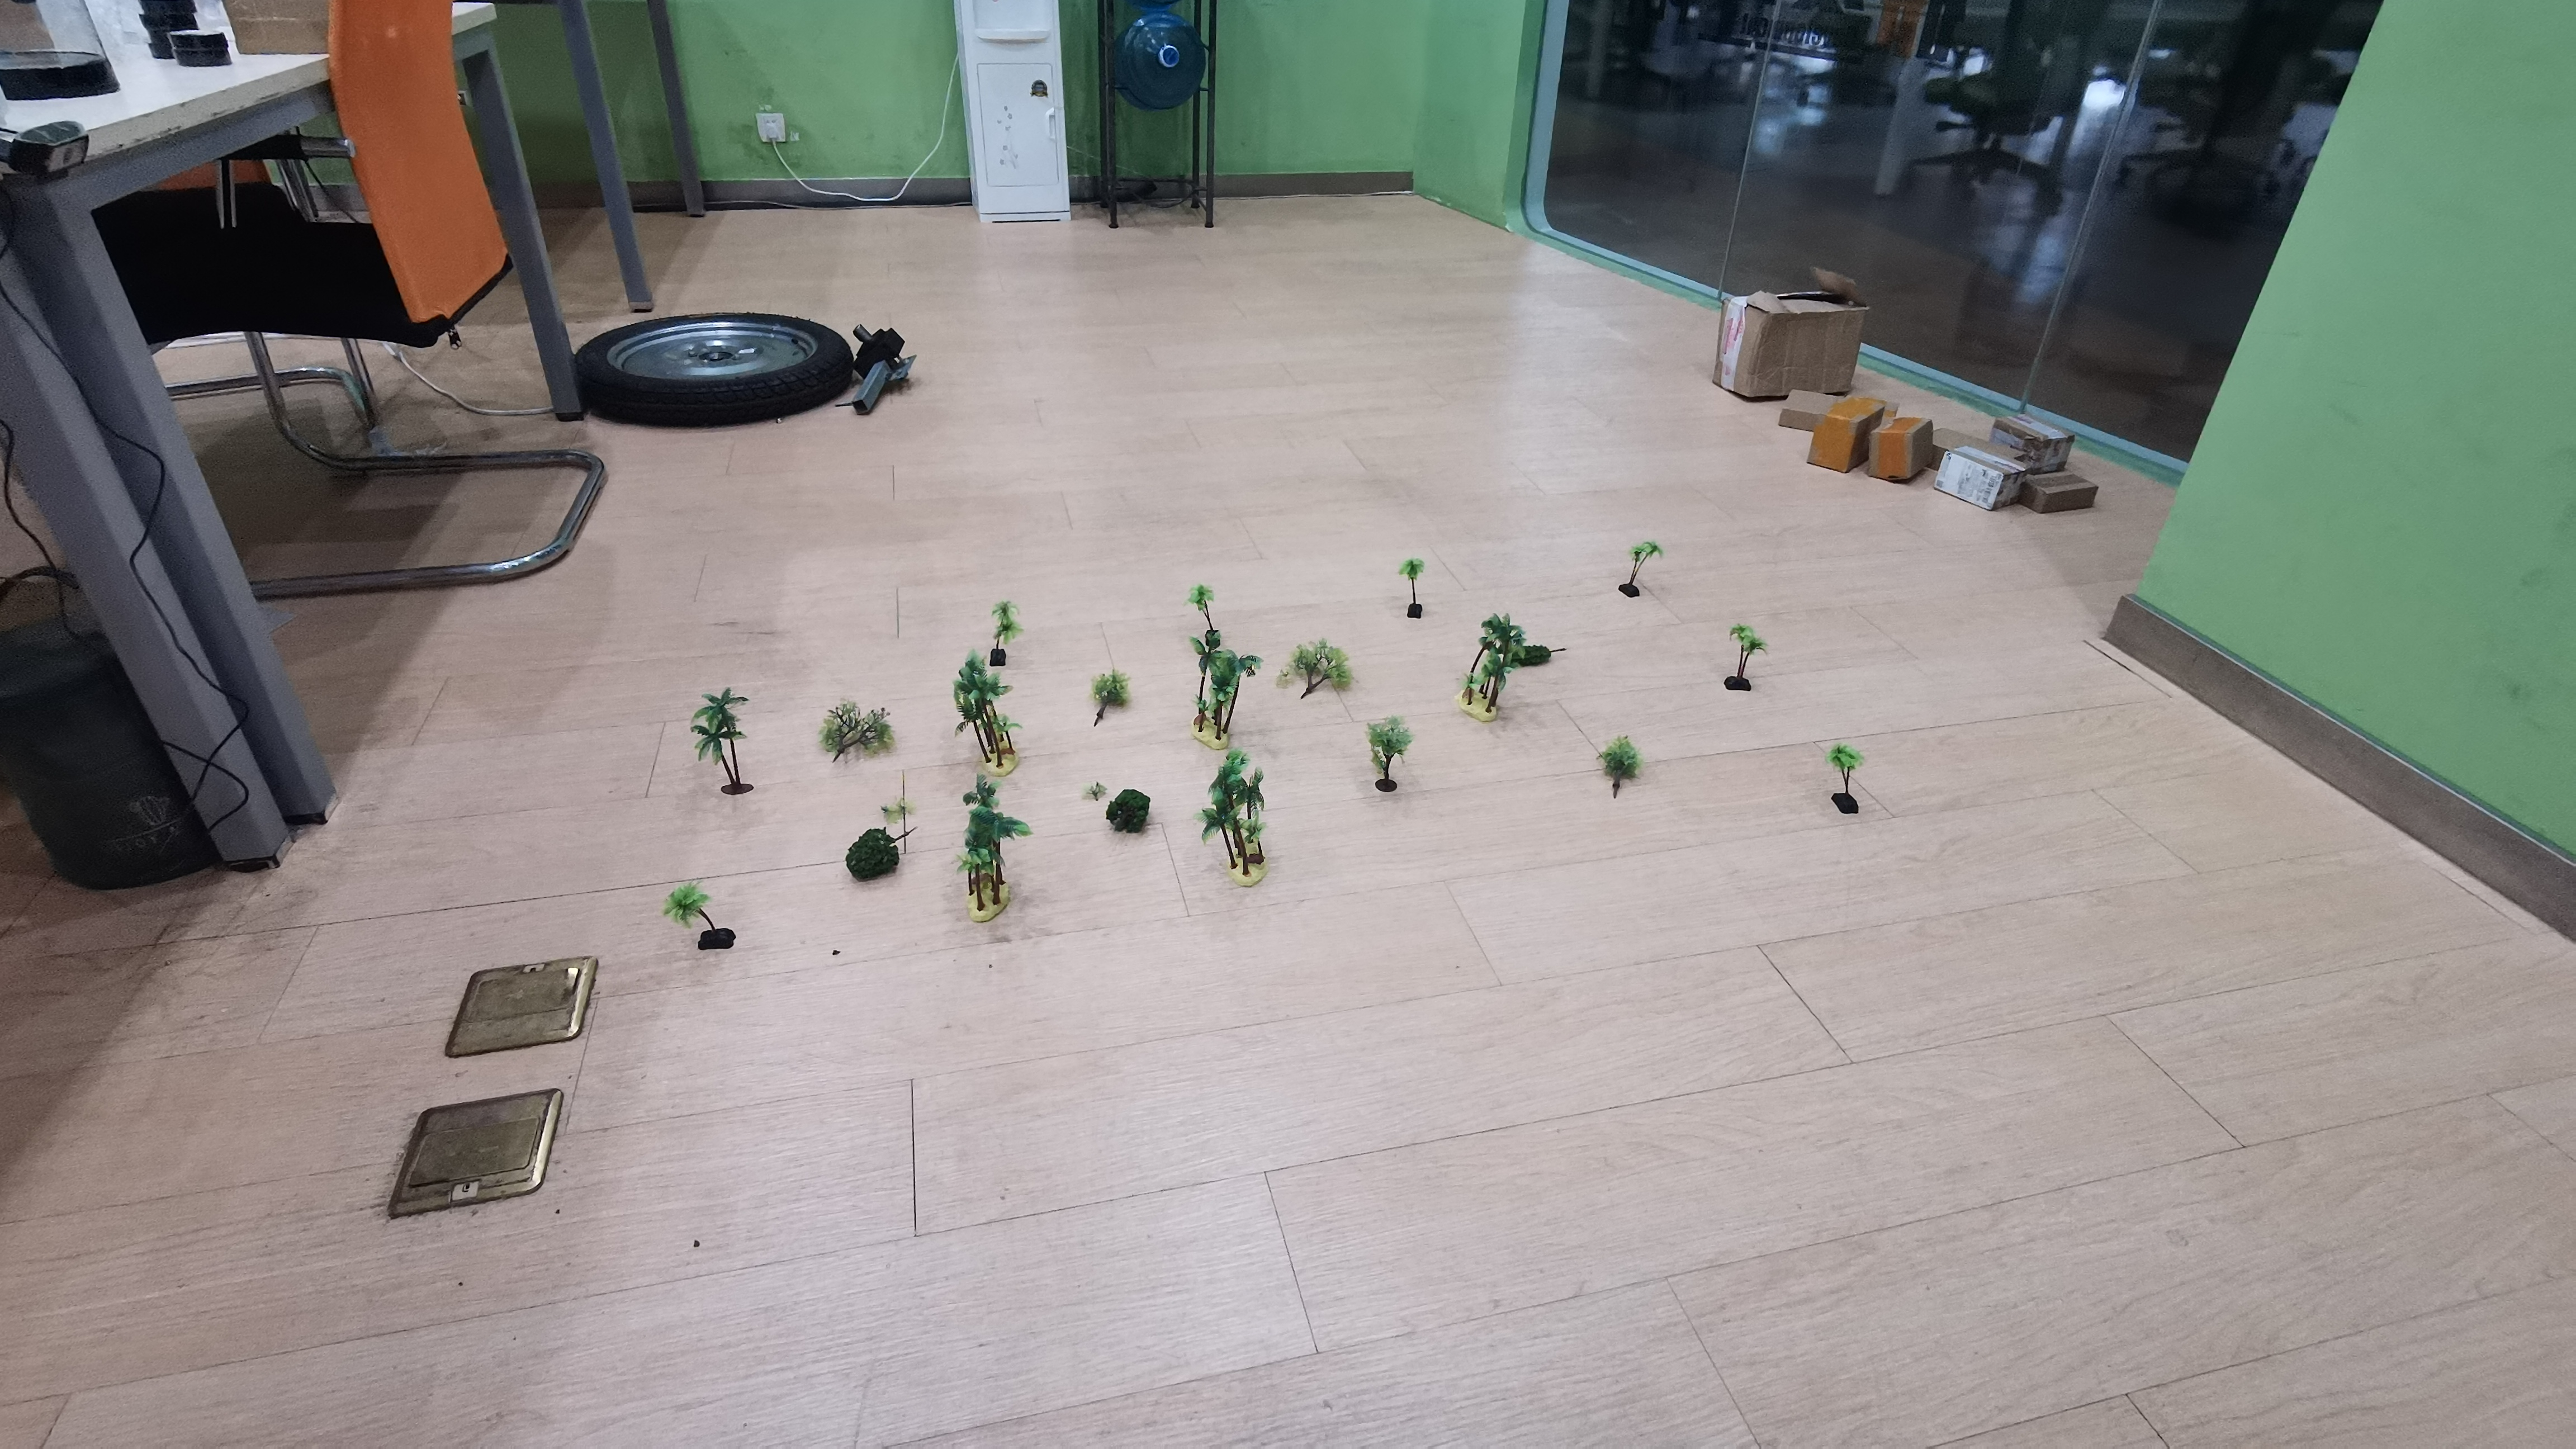corn: (932, 778, 1035, 929), (1185, 750, 1290, 885), (925, 660, 1033, 773), (1438, 610, 1539, 729), (669, 690, 766, 793), (1157, 653, 1263, 740), (655, 878, 752, 961), (1815, 740, 1884, 824), (962, 602, 1030, 667), (1608, 533, 1670, 600), (1718, 619, 1771, 697), (1184, 570, 1224, 663), (1398, 556, 1437, 617)
